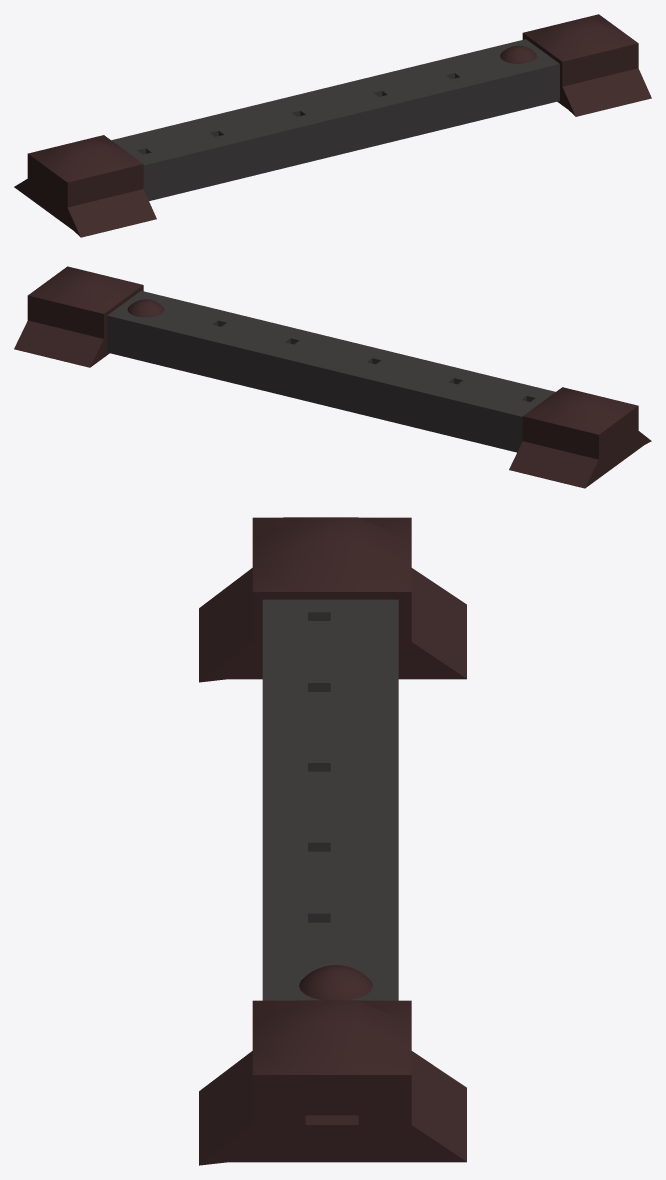
File: rasensprenkler.fbx
The picture shows the model from 3 angles, top to bottom: view 1: azimuth 30°, elevation 25°; view 2: azimuth 150°, elevation 25°; view 3: azimuth 270°, elevation 25°; orthographic projection. The views are drawn at different scales.
Parts seen in each view (by area): view 1: pCube1, pCube3, pCube2, pSphere1; view 2: pCube1, pCube3, pCube2, pSphere1; view 3: pCube1, pCube2, pCube3, pSphere1.
Part boxes in pixels (x1,y1,x2,y2): pCube1: (111, 39, 559, 200); pCube3: (14, 135, 156, 237); pCube2: (522, 14, 651, 116); pSphere1: (500, 45, 536, 63); pCube1: (107, 290, 555, 452); pCube3: (509, 387, 651, 488); pCube2: (14, 266, 143, 367); pSphere1: (127, 299, 164, 317); pCube1: (262, 599, 398, 1000); pCube2: (199, 1000, 466, 1165); pCube3: (199, 517, 466, 682); pSphere1: (299, 965, 372, 1000).
Size of the model in its own units: 1.26 by 0.1216 by 0.2553.
